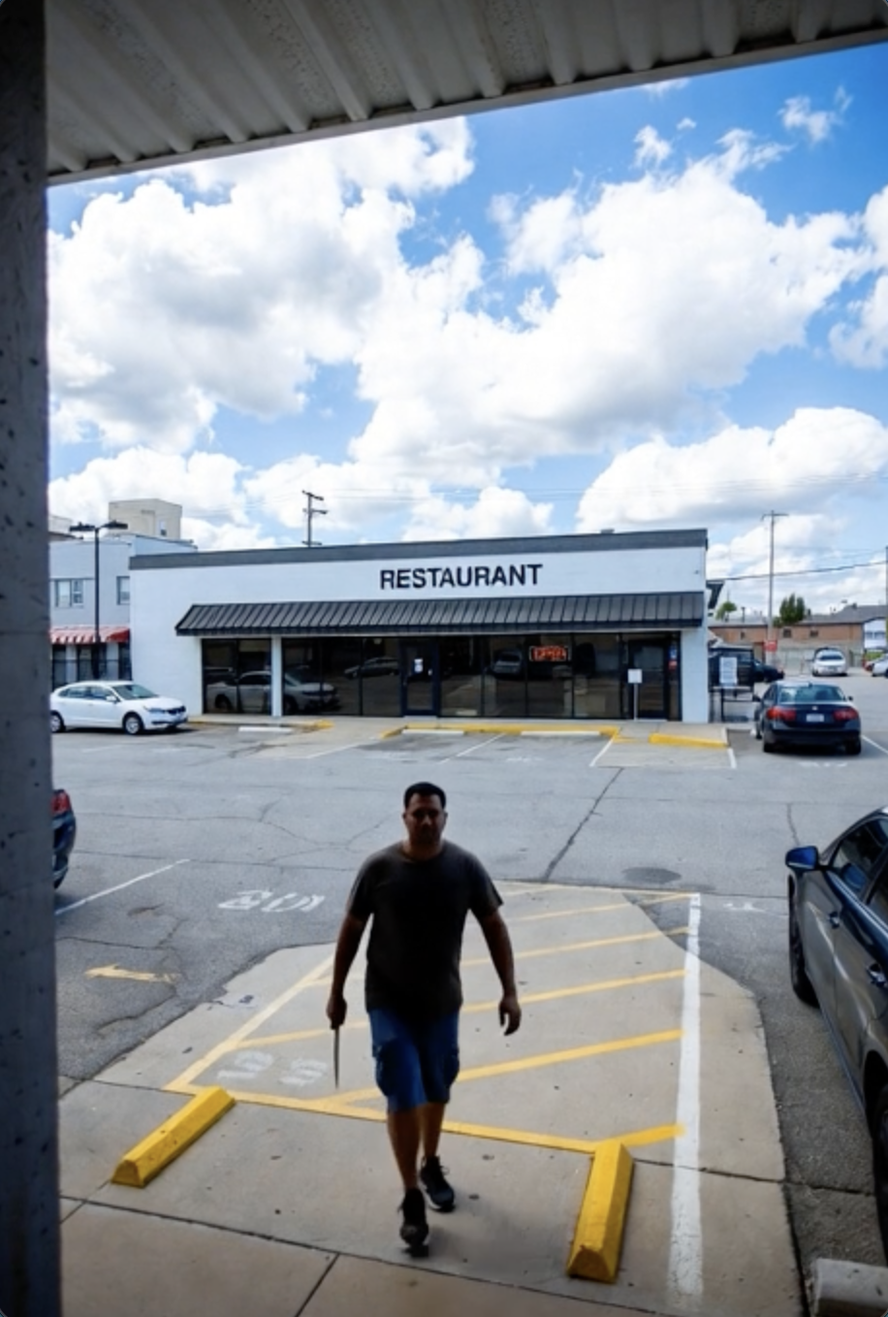Heavy Gun: (320, 762, 532, 1260)
Knife: (320, 993, 351, 1093)
